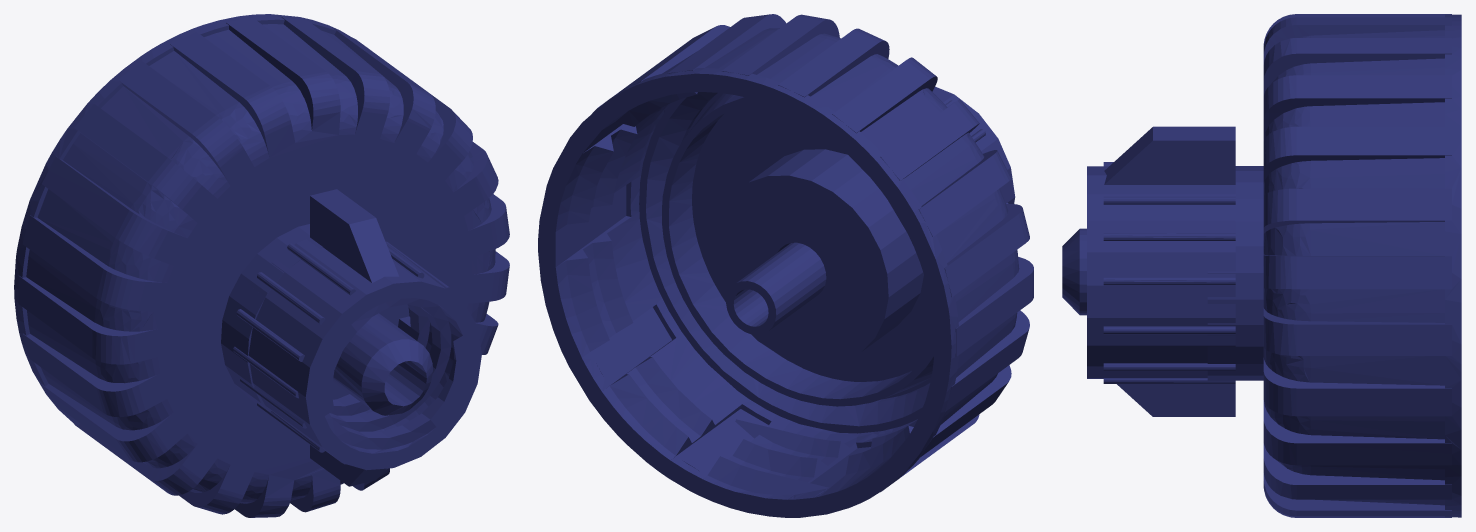
File: tinker.obj
3 renders of one model, left to right at view 1: azimuth 30°, elevation 25°; view 2: azimuth 150°, elevation 25°; view 3: azimuth 270°, elevation 25°, orthographic. The views are drawn at different scales.
Visible parts, largest first — view 1: obj_0; view 2: obj_0; view 3: obj_0.
Boxes of the visible parts, bbox=[...] form: obj_0: bbox=[14, 14, 509, 517]; obj_0: bbox=[538, 14, 1033, 517]; obj_0: bbox=[1062, 14, 1461, 517].
Bounding box in the file's own units: 30.5 × 30.57 × 24.19.
